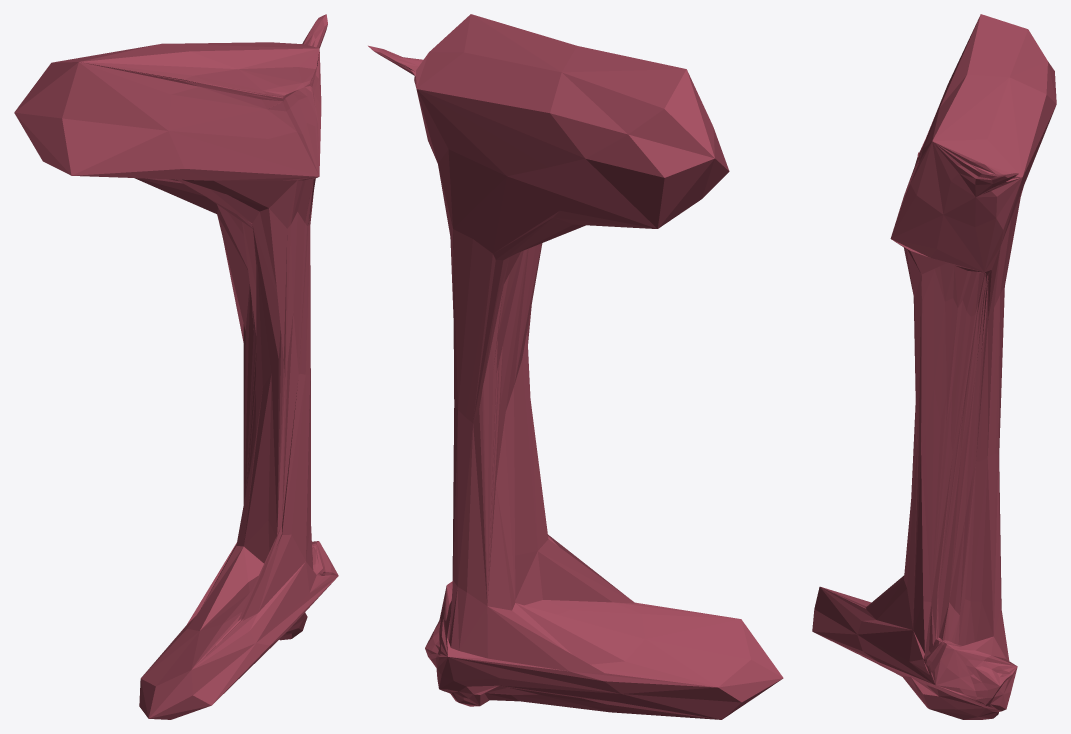
3 views of the same model, side by side, from view 1: azimuth 30°, elevation 25°; view 2: azimuth 150°, elevation 25°; view 3: azimuth 270°, elevation 25° (orthographic). The views are drawn at different scales.
Visible parts, largest first — view 1: 777_Cube.3129; view 2: 777_Cube.3129; view 3: 777_Cube.3129.
Boxes of the visible parts, left/top/right/bottom form: 777_Cube.3129: left=14, top=14, right=338, bottom=719; 777_Cube.3129: left=368, top=14, right=783, bottom=719; 777_Cube.3129: left=812, top=14, right=1056, bottom=719.
Bounding box in the file's own units: 6.96 × 13.31 × 4.73.
